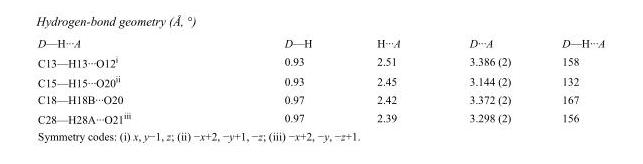table: (37, 36, 604, 125)
table column: (37, 36, 207, 125), (207, 36, 343, 125), (434, 36, 535, 125), (343, 36, 434, 125), (535, 36, 604, 125)
table row: (37, 51, 604, 71), (37, 71, 604, 90), (37, 107, 604, 125), (37, 90, 604, 107), (37, 36, 604, 51)
